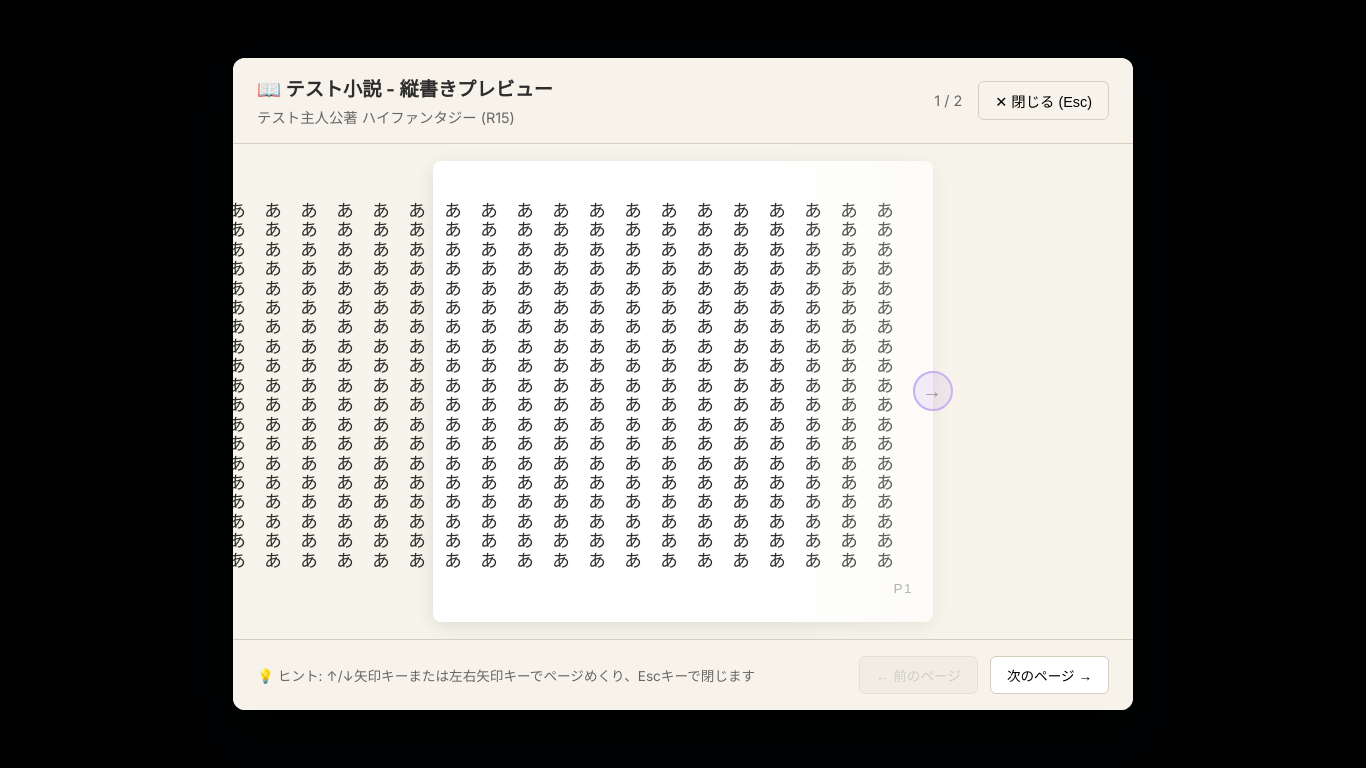
Test: ZenModeAndEditor Components Tests › VerticalBookReaderModal Component › should navigate between pages
Expected: the text "1 / 2" is shown, left=934, top=92, right=962, bottom=109
Step 1. Click the button "次のページ →" → [1049, 675], box left=990, top=656, right=1109, bottom=694
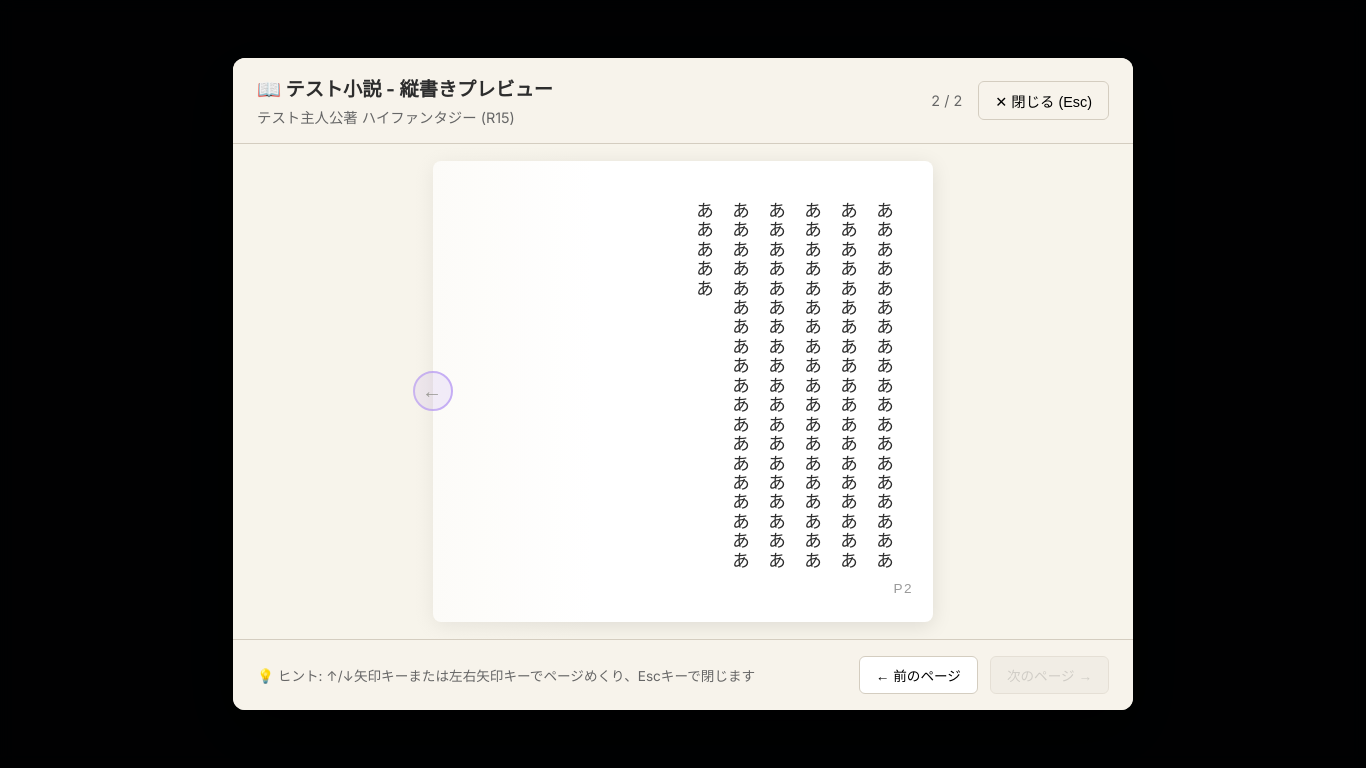
Now the text "2 / 2" is shown, box left=931, top=92, right=962, bottom=109
